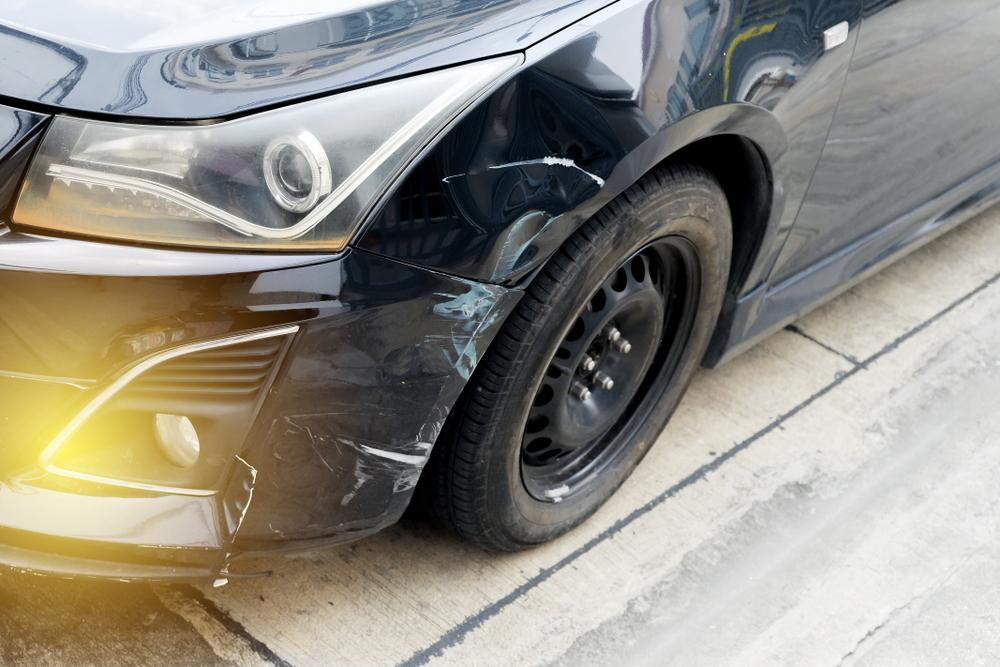dent: (358, 70, 651, 283)
scratch: (329, 276, 501, 516)
